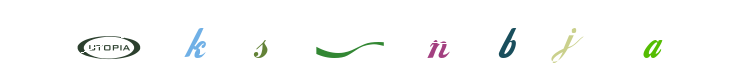0: (265, 0, 345, 80)
6: (156, 0, 236, 80)
A: (612, 0, 692, 80)
B: (387, 0, 467, 80)
J: (397, 0, 477, 80)
K: (198, 0, 278, 80)
N: (330, 0, 410, 80)
S: (254, 0, 334, 80)
